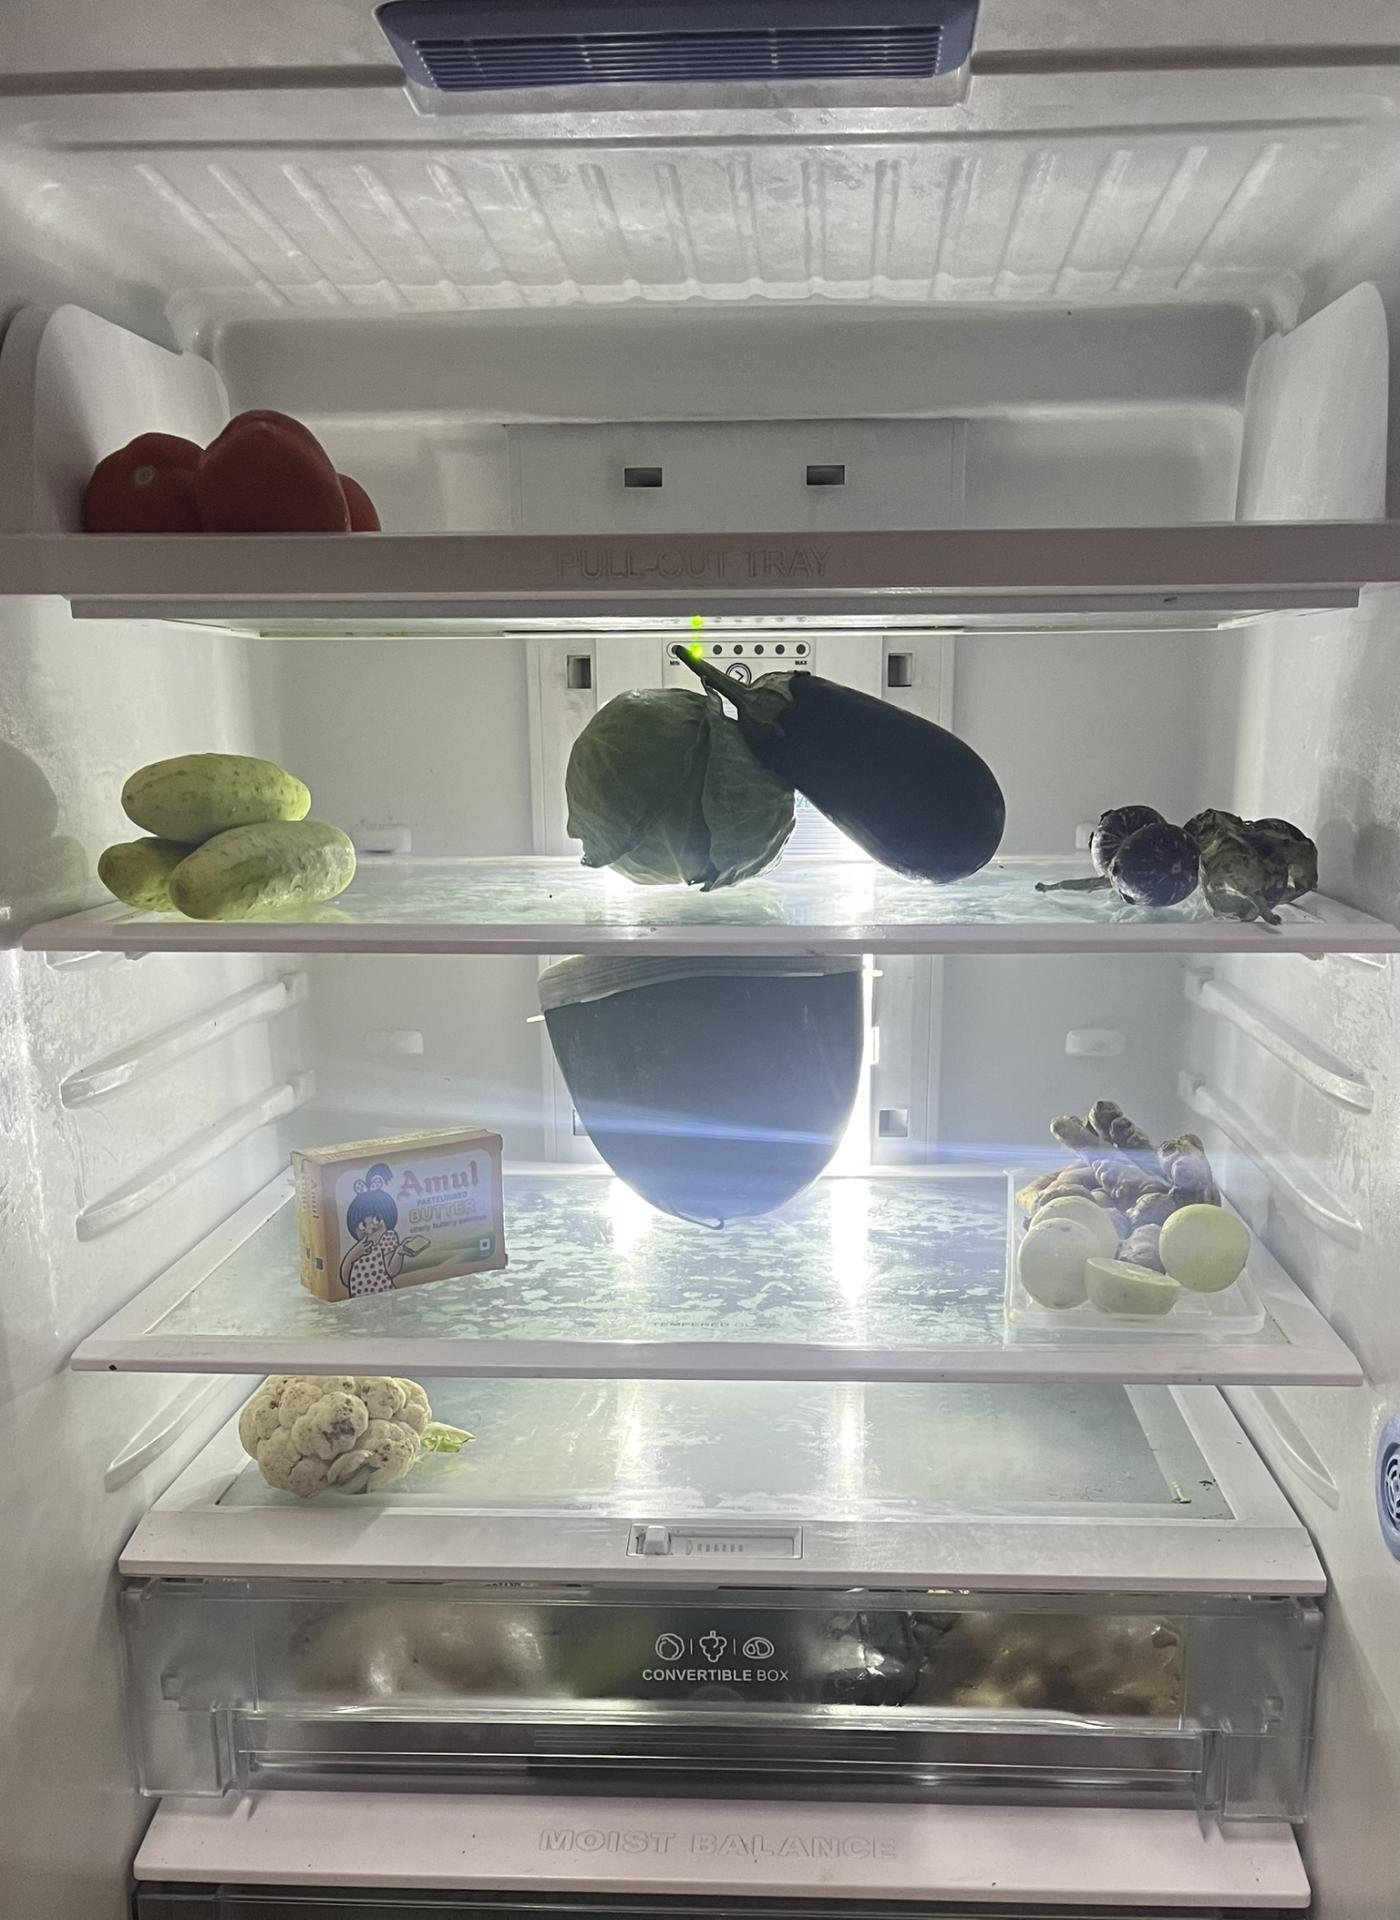butter: (292, 1128, 519, 1300)
cabbage: (553, 681, 802, 900)
cauliflower: (225, 1374, 456, 1500)
cucumber: (100, 747, 365, 915)
ginger: (1018, 1100, 1215, 1200)
lemon: (1018, 1206, 1255, 1337)
tomato: (70, 397, 392, 537)
watermelon: (535, 953, 869, 1225)
